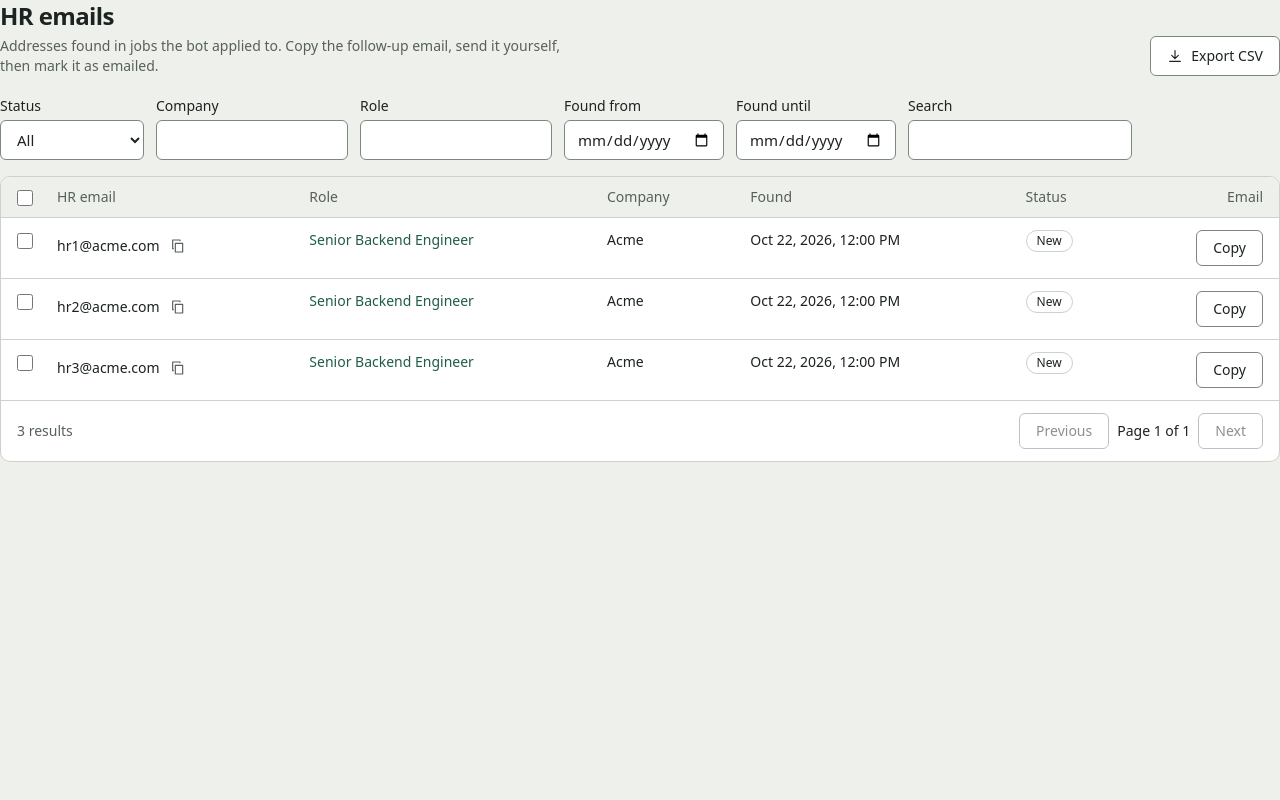
Scenario: select several emails and delete them after confirming
Click the checkbox named "Select hr1@acme.com" at (25, 241), box 17,233 -> 33,249
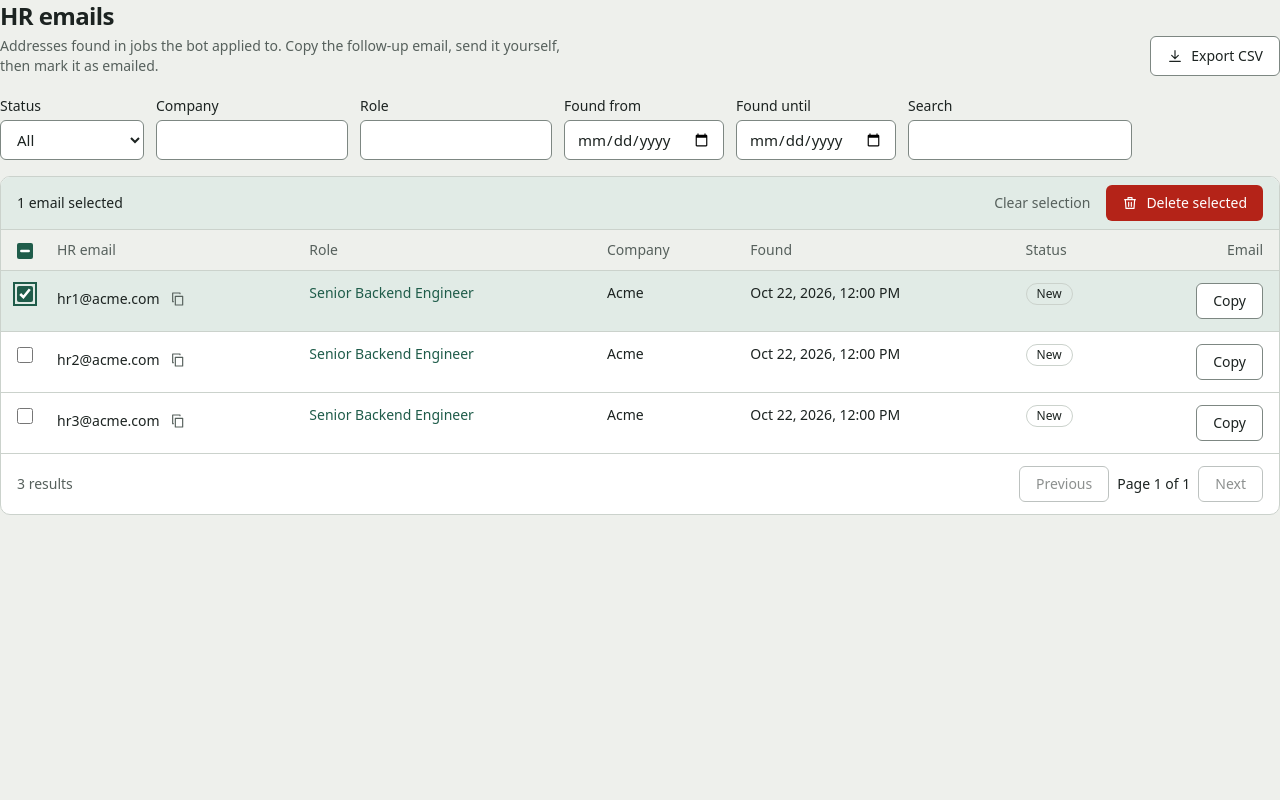
Click the checkbox named "Select hr3@acme.com" at (25, 416), box 17,408 -> 33,424
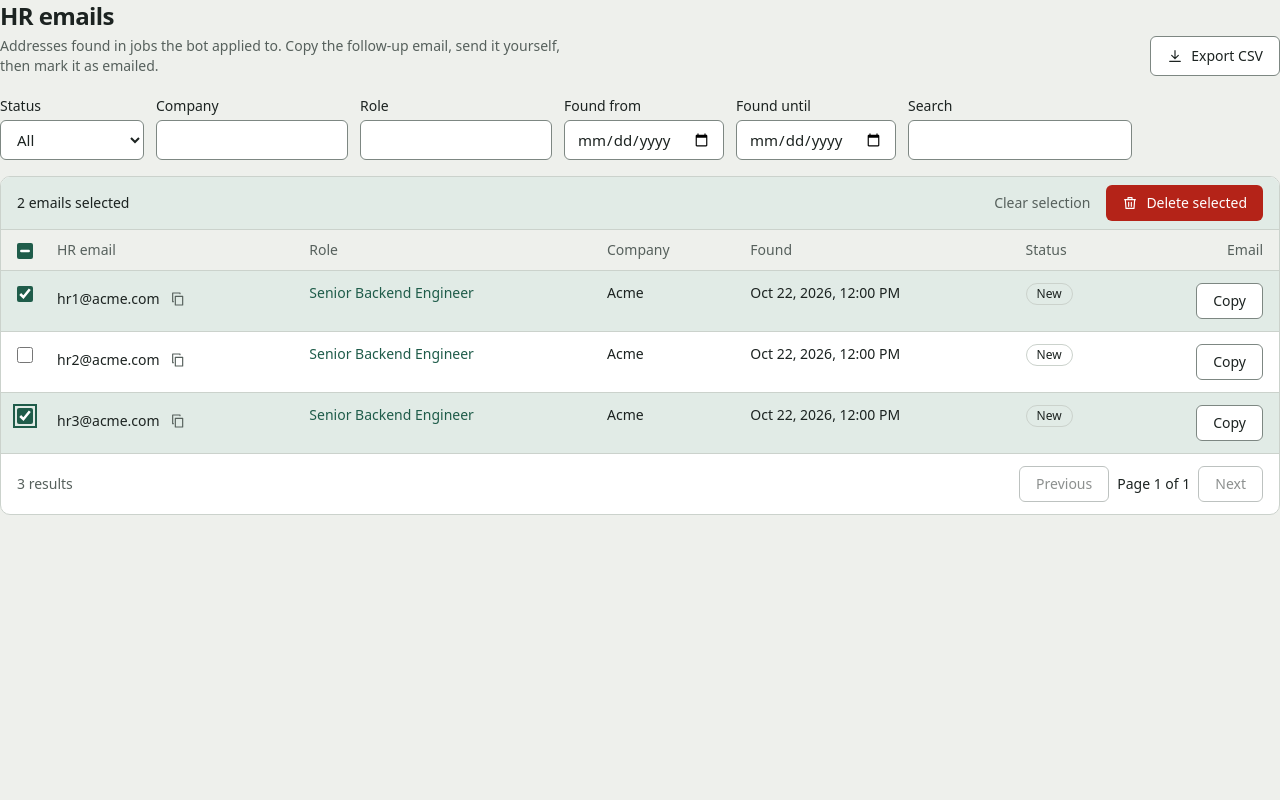
Check: the element named "Selected rows" shows "2 emails selected", box 1,177 -> 1279,230
Click the button "Delete selected" at (1185, 203), box 1106,185 -> 1263,221
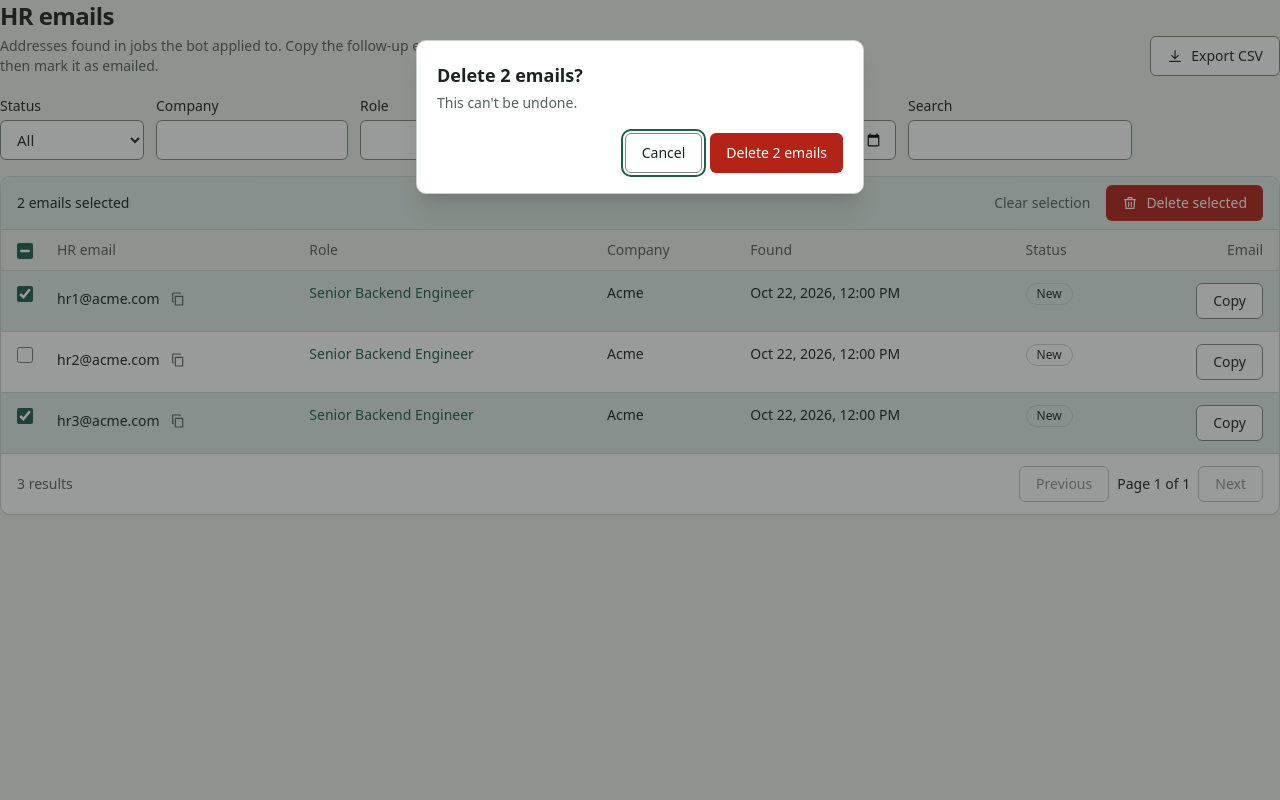
Click the button "Delete 2 emails" at (777, 153), box 710,133 -> 843,173
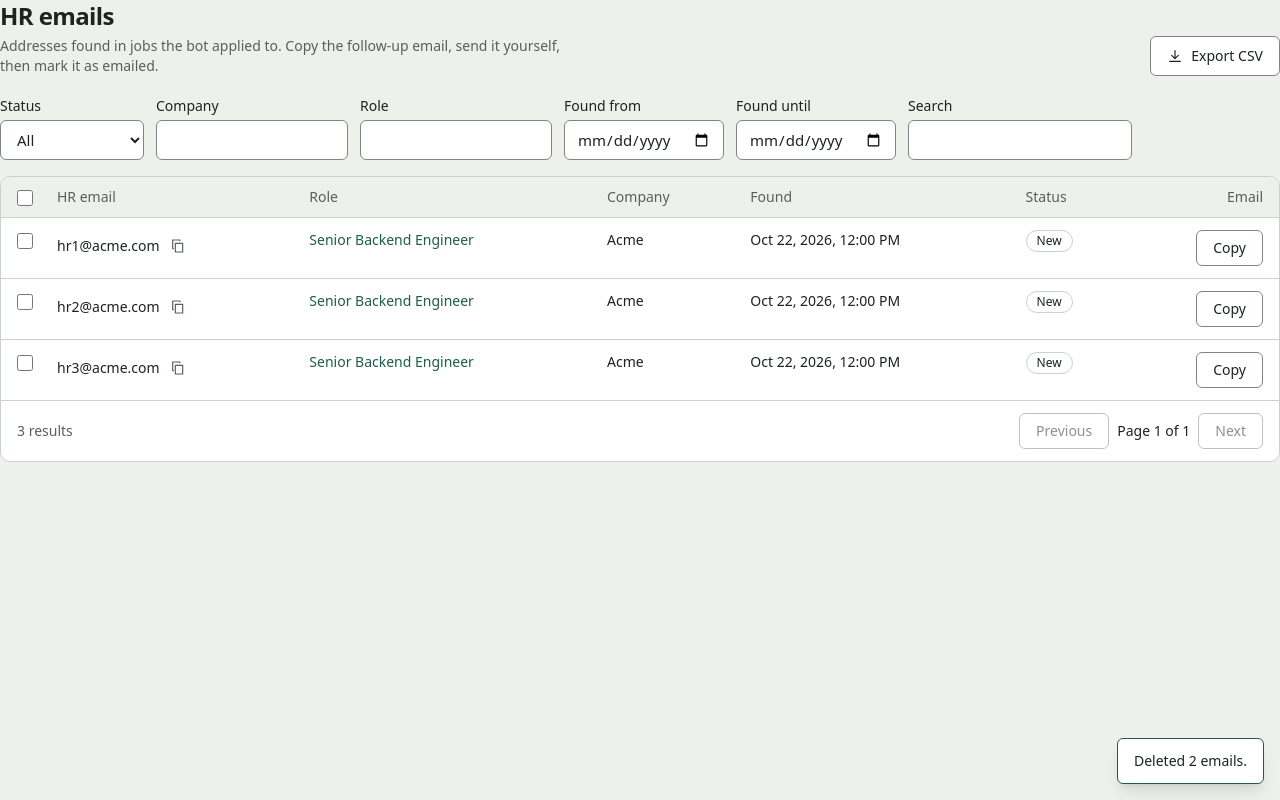
Check: the text "Deleted 2 emails." is shown, box 1117,738 -> 1264,784
